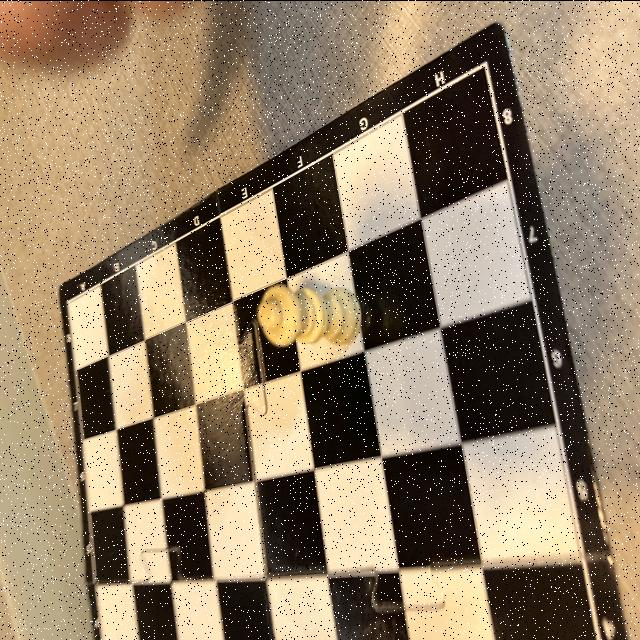White-Queen: (258, 285, 360, 347)
